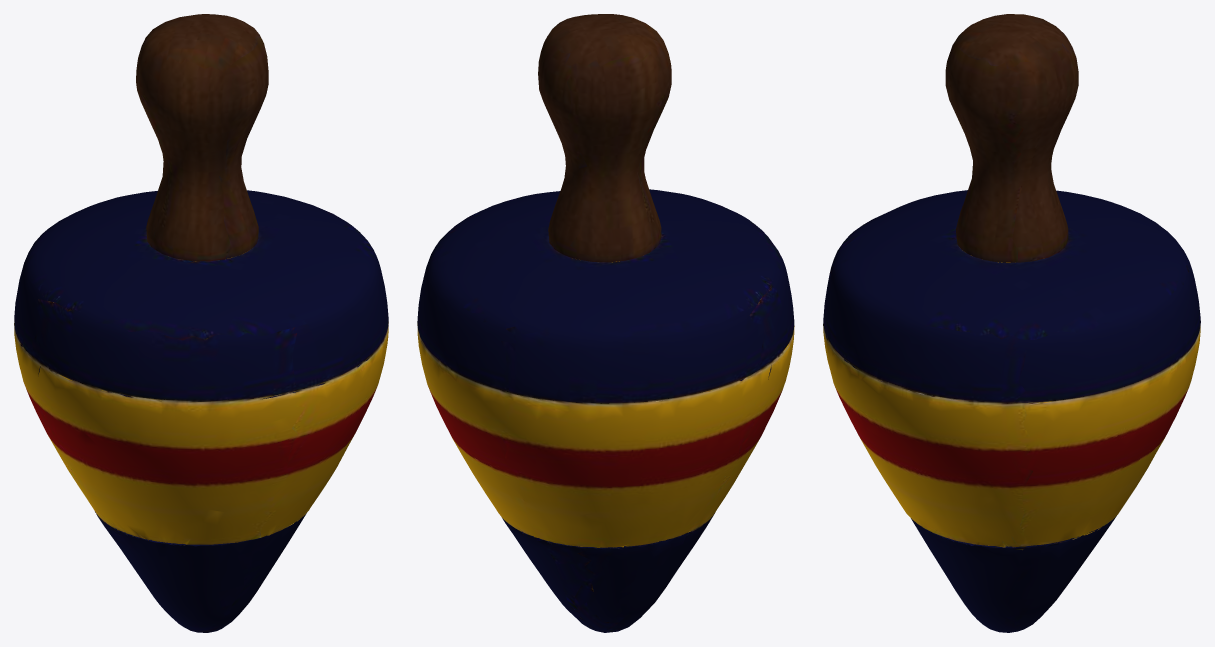
The model's file is peonza.glb.
3 renders of one model, left to right at view 1: azimuth 30°, elevation 25°; view 2: azimuth 150°, elevation 25°; view 3: azimuth 270°, elevation 25°, orthographic.
Parts seen in each view (by area): view 1: objeto; view 2: objeto; view 3: objeto.
Boxes of the visible parts, x1,y1,x2,y2 form: objeto: (14,14,388,632); objeto: (417,14,794,632); objeto: (823,14,1200,632).
Bounding box in the file's own units: 0.6234 × 1.1 × 0.6247.
Materials: 1 (1 with a texture image).
